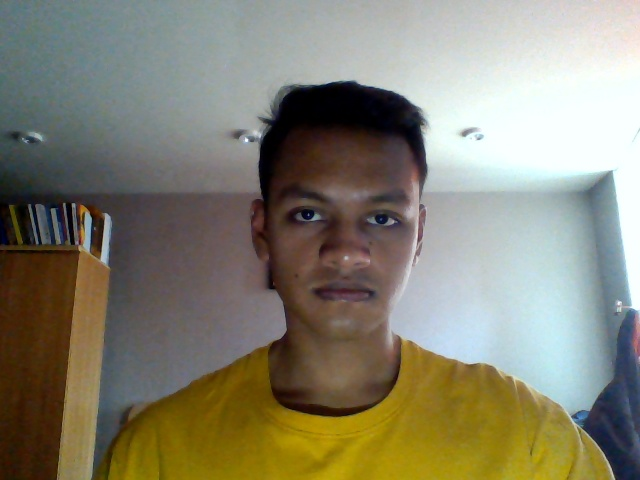no_mask: (265, 236, 412, 332)
